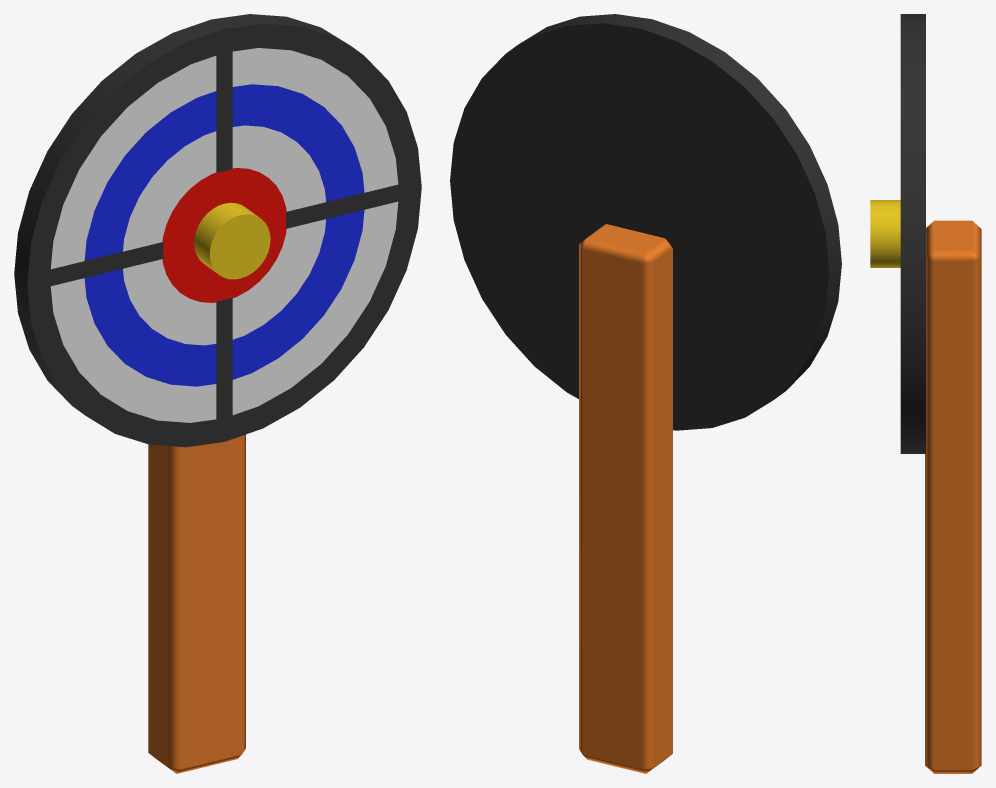
File: target.fbx
The picture shows the model from 3 angles, left to right: view 1: azimuth 30°, elevation 25°; view 2: azimuth 150°, elevation 25°; view 3: azimuth 270°, elevation 25°; orthographic projection. The views are drawn at different scales.
Visible parts, largest first — view 1: target, basement, targetCenter; view 2: target, basement; view 3: basement, target, targetCenter.
Part boxes in pixels (x1,y1,x2,y2): target: (14, 14, 421, 447); basement: (148, 434, 245, 773); targetCenter: (194, 202, 270, 279); target: (450, 14, 841, 430); basement: (579, 224, 672, 773); basement: (925, 220, 981, 773); target: (900, 14, 925, 453); targetCenter: (870, 200, 900, 267).
Size of the model in its own units: 70.48 by 128 by 17.81.
